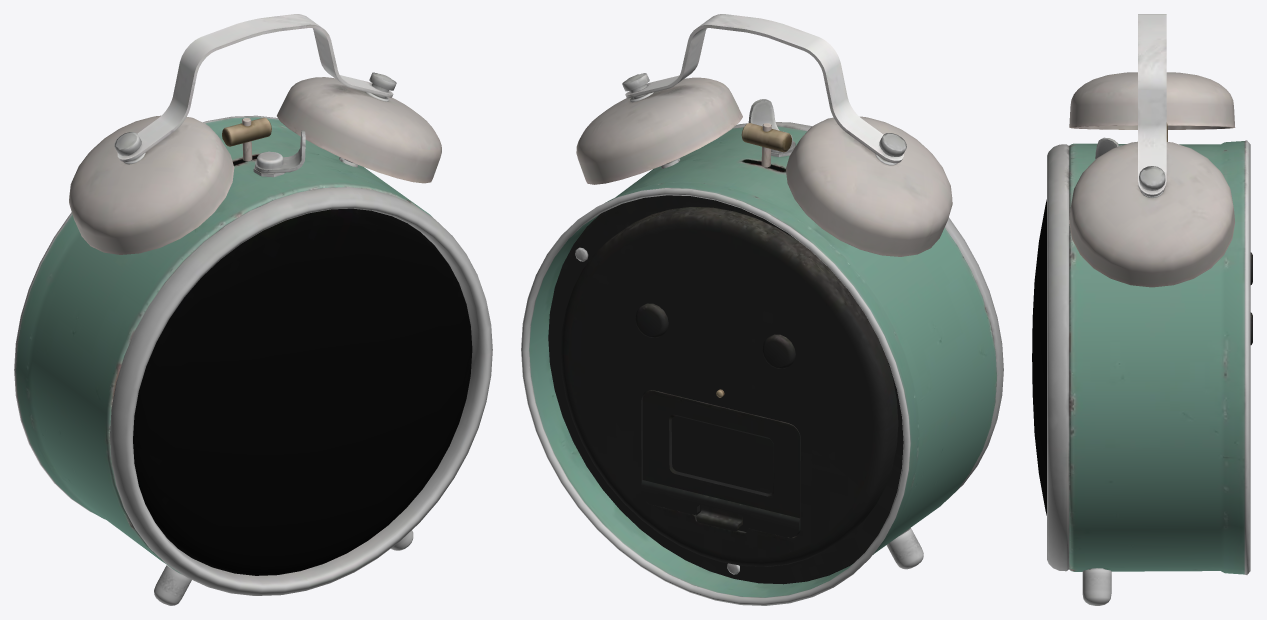
Rendered from alarm_clock_01.glb.
The picture shows the model from 3 angles, left to right: view 1: azimuth 30°, elevation 25°; view 2: azimuth 150°, elevation 25°; view 3: azimuth 270°, elevation 25°; orthographic projection. The views are drawn at different scales.
Parts seen in each view (by area): view 1: alarm_clock_01; view 2: alarm_clock_01; view 3: alarm_clock_01.
Part boxes in pixels (x1=…): alarm_clock_01: x1=14, y1=14, x2=492, y2=605; alarm_clock_01: x1=521, y1=14, x2=1003, y2=605; alarm_clock_01: x1=1032, y1=14, x2=1252, y2=605.
Bounding box in the file's own units: 0.1317 × 0.1742 × 0.0667.
2 materials, 2 textured.
